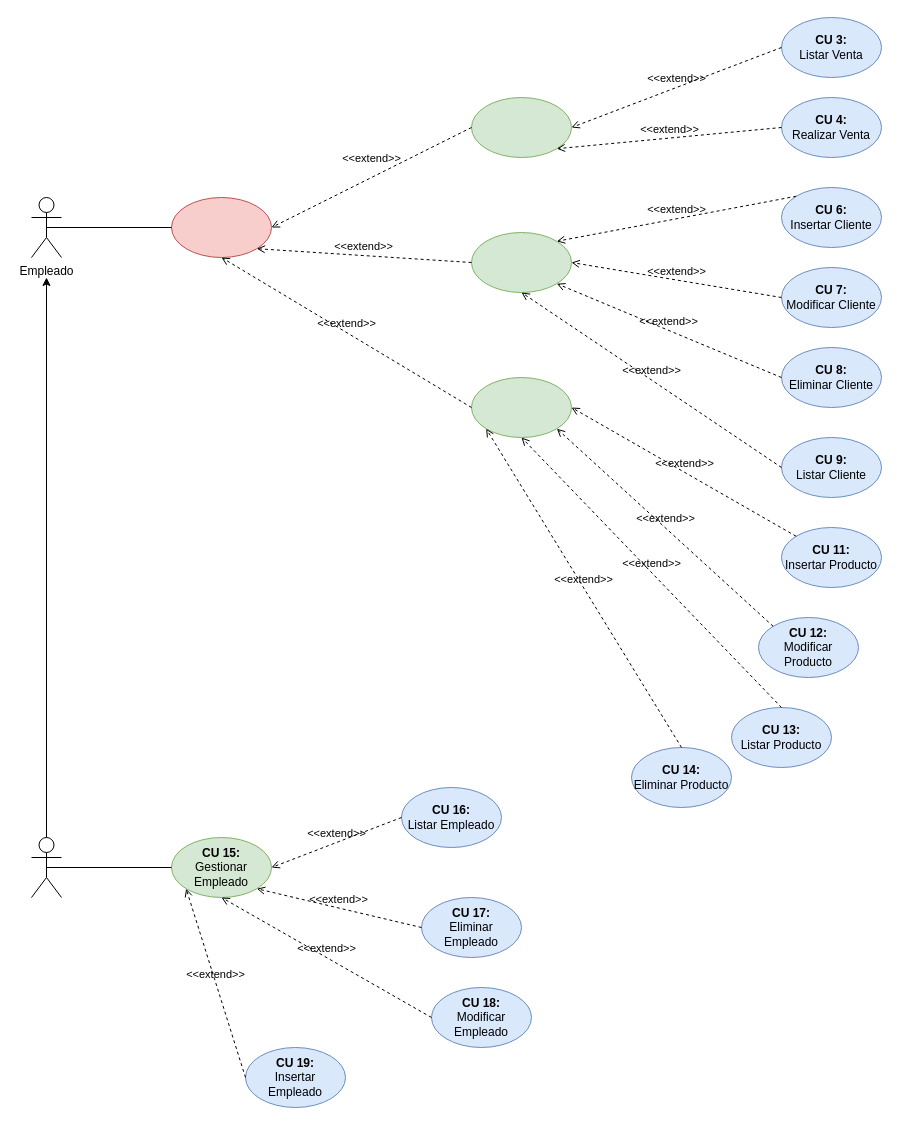
Some shapes in this 899 by 1125 pixel diagram are drawn without their labels. The shapes that lost their labels are listed below. From the top down, each one's centre as x and y in pixels, then its label:
At point 521,127: "CU 2: Gestionar Venta".
At point 221,227: "CU 1: Autenticarse".
At point 521,262: "CU 5: Gestionar Cliente".
At point 521,407: "CU 10: Gestionar Producto".
At point 46,867: "Encargado".
